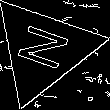N_E: (11, 22, 76, 77)
